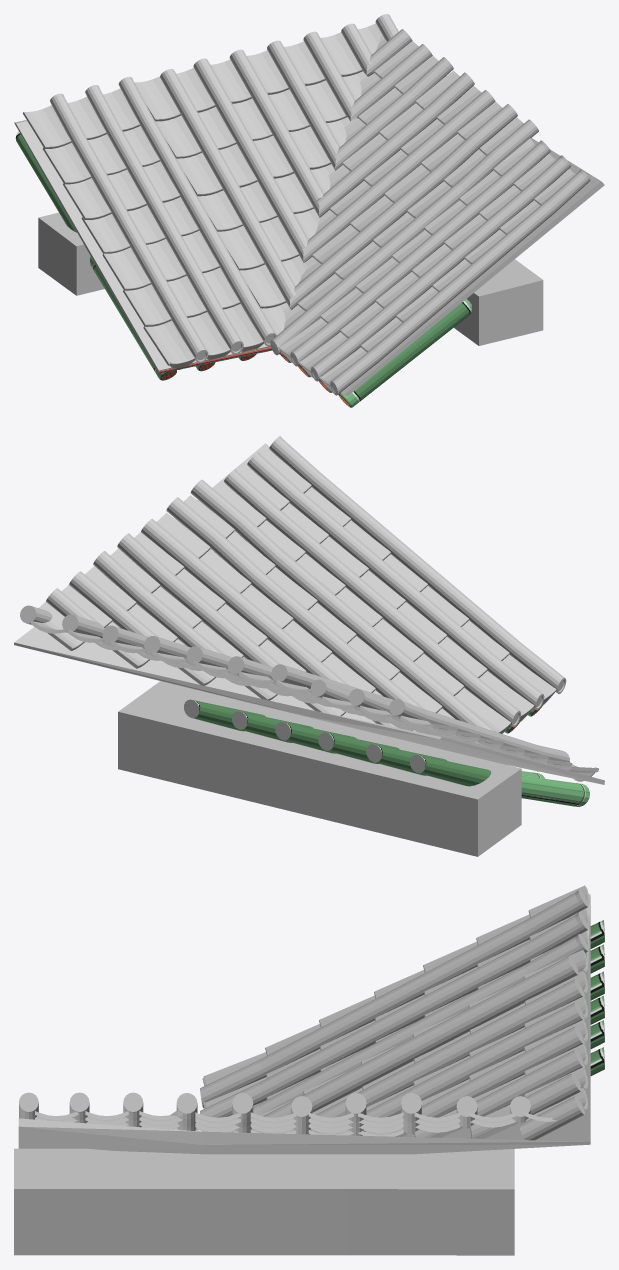
File: SM_R_RoofCorner_19.fbx
3 views of the same model, one above another, from view 1: azimuth 30°, elevation 25°; view 2: azimuth 150°, elevation 25°; view 3: azimuth 270°, elevation 25° (orthographic). The views are drawn at different scales.
Visible parts, largest first — view 1: SM_R_RoofCorner_19_LOD0; view 2: SM_R_RoofCorner_19_LOD0; view 3: SM_R_RoofCorner_19_LOD0.
Boxes of the visible parts, x1,y1,x2,y2 form: SM_R_RoofCorner_19_LOD0: (14, 14, 604, 407); SM_R_RoofCorner_19_LOD0: (14, 436, 604, 856); SM_R_RoofCorner_19_LOD0: (14, 885, 604, 1255).
Size of the model in its own units: 438 by 451 by 209.
